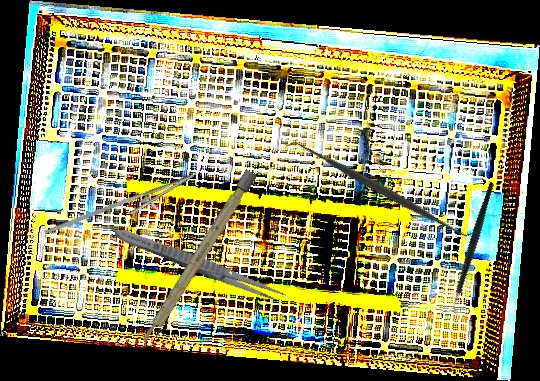Chopper: (413, 180, 536, 318)
Dressing Forceps: (111, 223, 289, 307)
Needle Holder: (43, 156, 201, 262)
Scalpel Handle: (137, 169, 258, 350)
Spatula Surgical: (283, 128, 481, 251)
